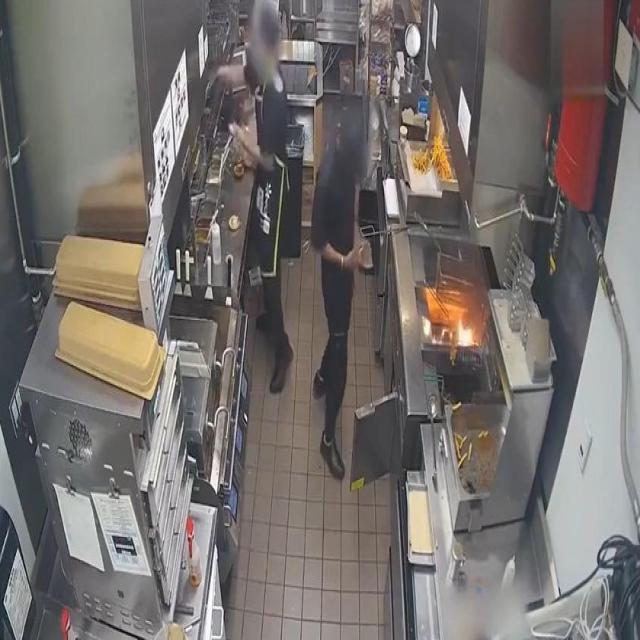smoke: (452, 314, 481, 350)
